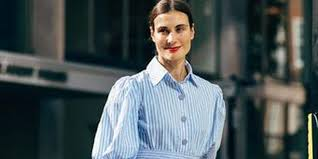F_shirt: (93, 61, 226, 159)
